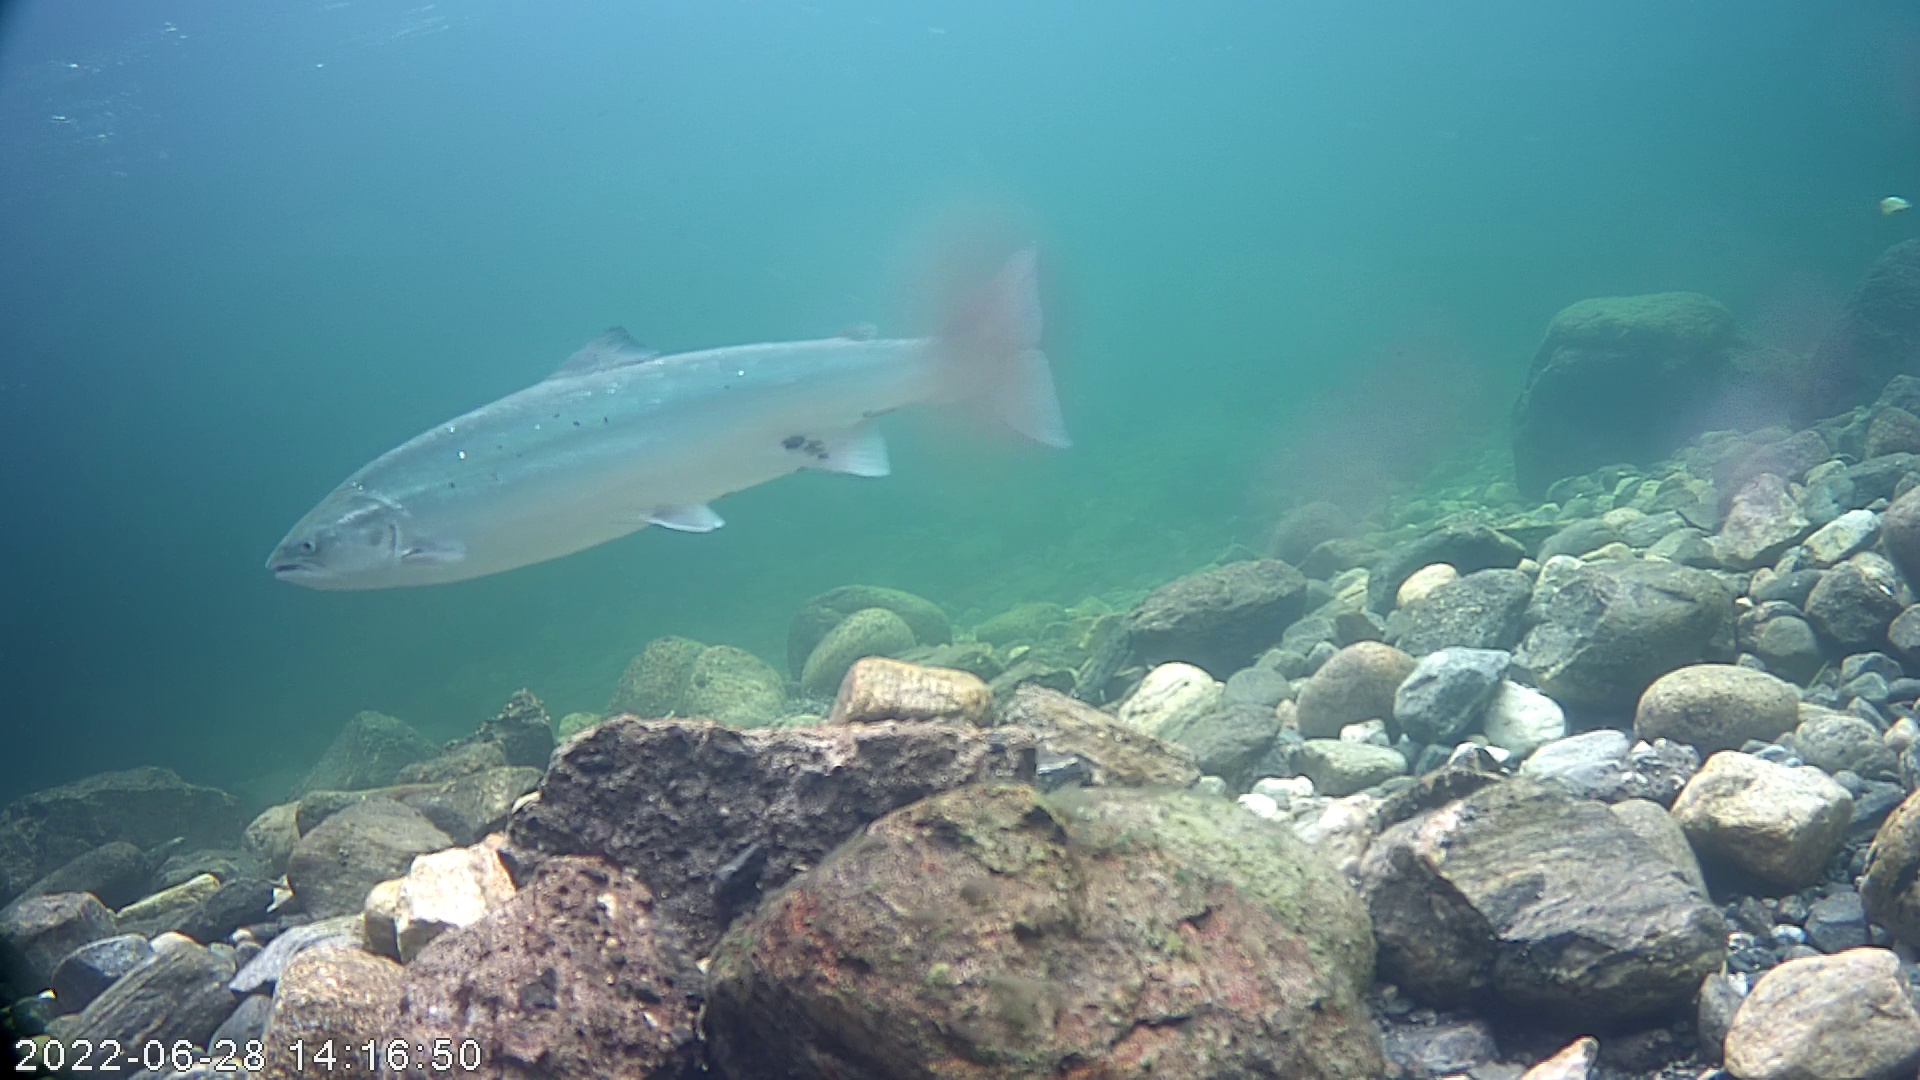salmon: (253, 193, 1095, 622)
